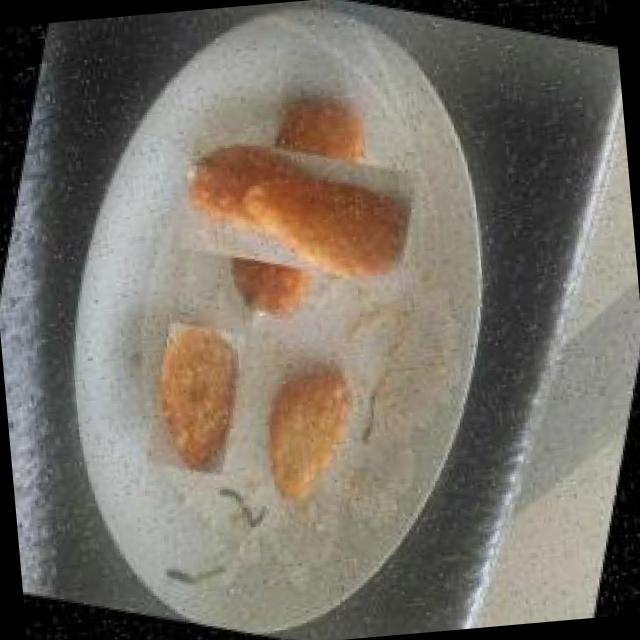triangle_hash_brown: (183, 95, 409, 322), (242, 352, 370, 521), (132, 314, 259, 483)
